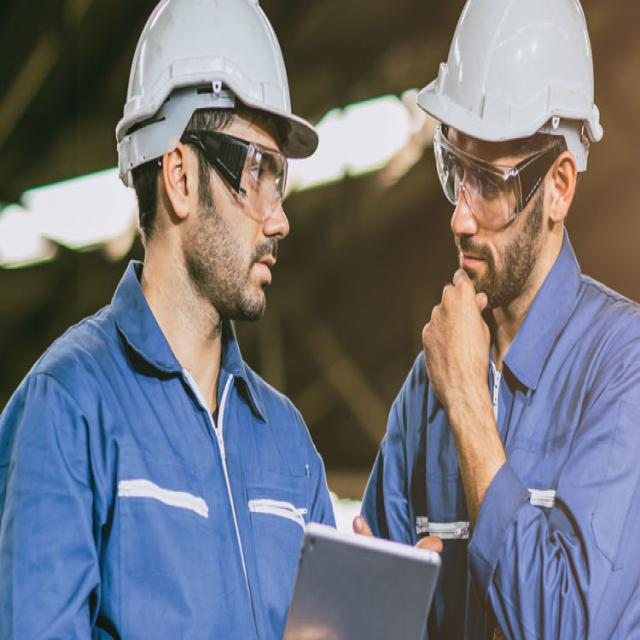helmet: (114, 0, 321, 195), (403, 0, 605, 166)
